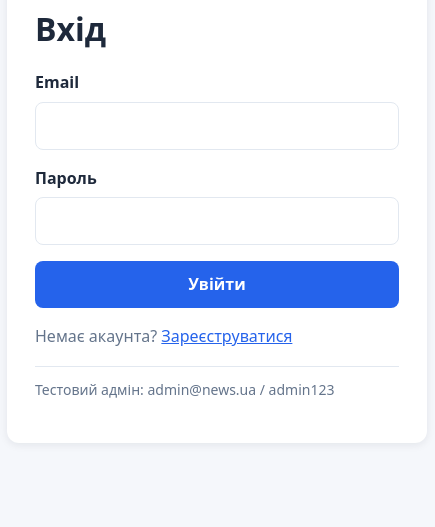
Test: LoginPage › показує помилку, якщо поля порожні
Click the button "Увійти": [217, 285] box top-left (35, 261), bottom-right (399, 308)
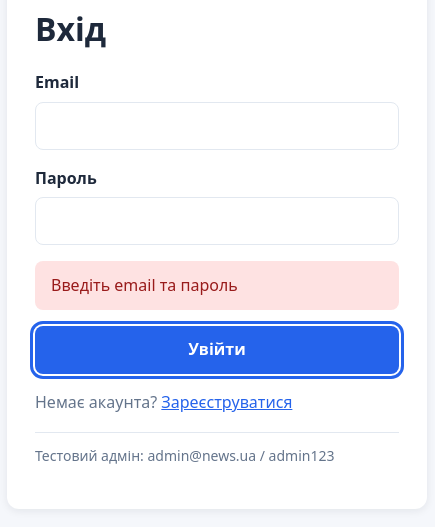
Check: the message reads "Введіть email та пароль", box top-left (51, 274), bottom-right (238, 296)
